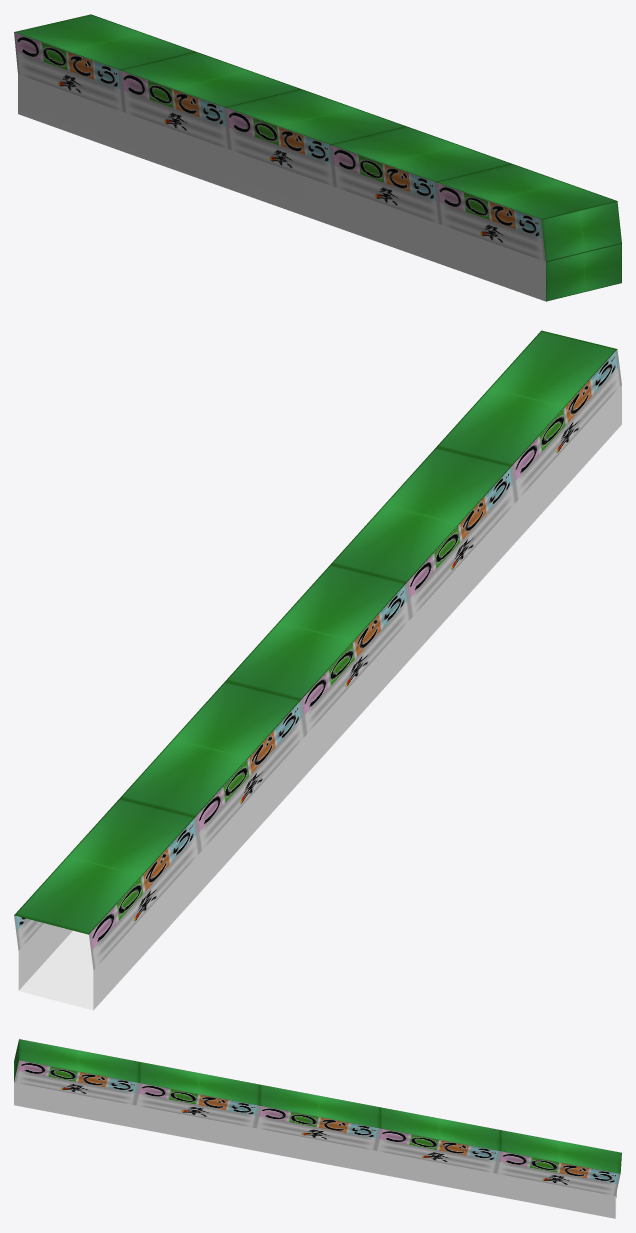
File: CourseWinter_Wall_L_1.fbx
3 views of the same model, one above another, from view 1: azimuth 30°, elevation 25°; view 2: azimuth 150°, elevation 25°; view 3: azimuth 270°, elevation 25° (orthographic). The views are drawn at different scales.
Parts seen in each view (by area): view 1: polySurface386; view 2: polySurface386; view 3: polySurface386.
Part boxes in pixels (x1,y1,x2,y2): polySurface386: (14, 14, 621, 301); polySurface386: (14, 330, 621, 1010); polySurface386: (14, 1039, 621, 1218).
Size of the model in its own units: 2.01 by 6.98 by 24.25.
1 material, 1 textured.
